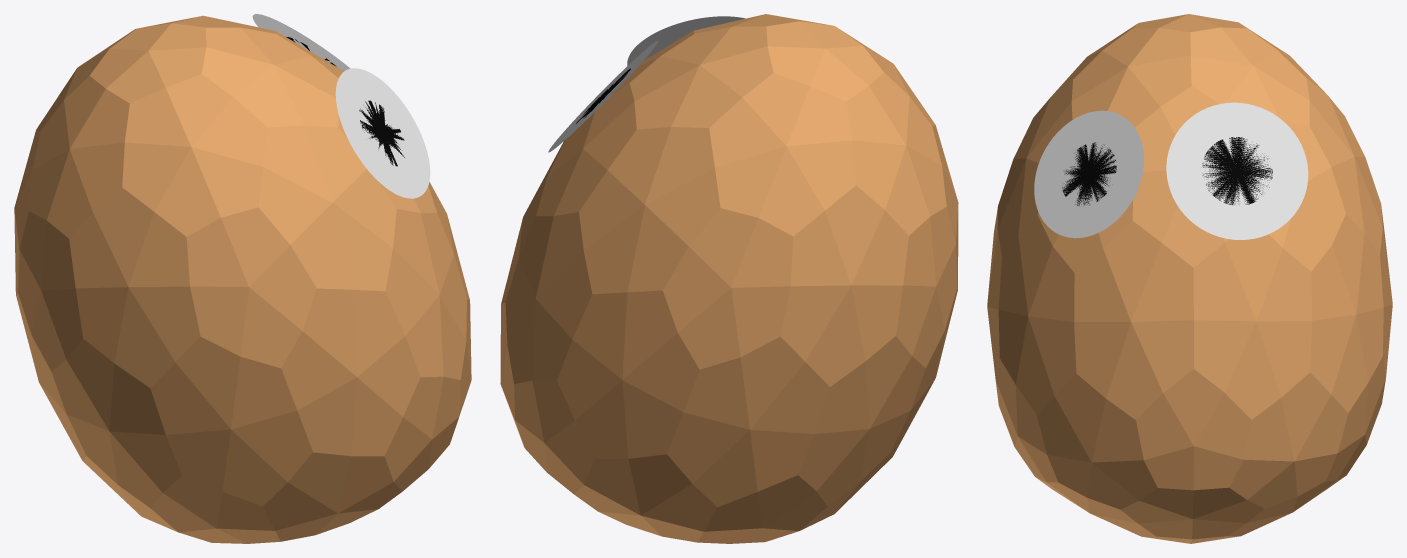
Rendered from Eggy.fbx.
3 views of the same model, side by side, from view 1: azimuth 30°, elevation 25°; view 2: azimuth 150°, elevation 25°; view 3: azimuth 270°, elevation 25° (orthographic). The views are drawn at different scales.
Visible parts, largest first — view 1: Icosphere; view 2: Icosphere; view 3: Icosphere.
Part boxes in pixels (bbox=[...]): Icosphere: bbox=[14, 14, 471, 543]; Icosphere: bbox=[500, 14, 958, 543]; Icosphere: bbox=[987, 14, 1392, 543].
Size of the model in its own units: 197 by 232 by 185.
